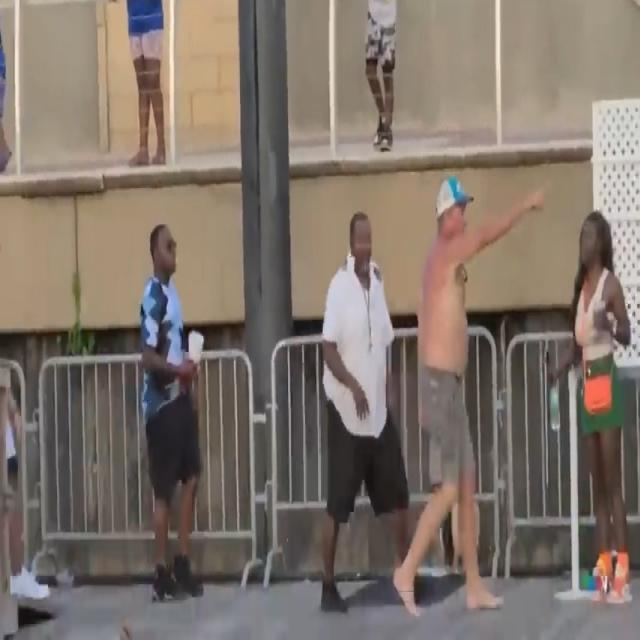non-fight: (132, 170, 640, 614)
